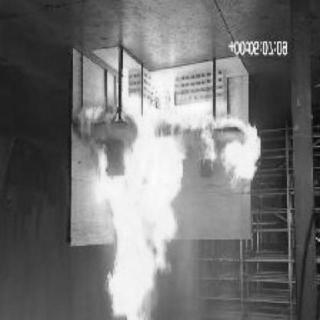Fire: (81, 67, 191, 320), (193, 106, 264, 190)
